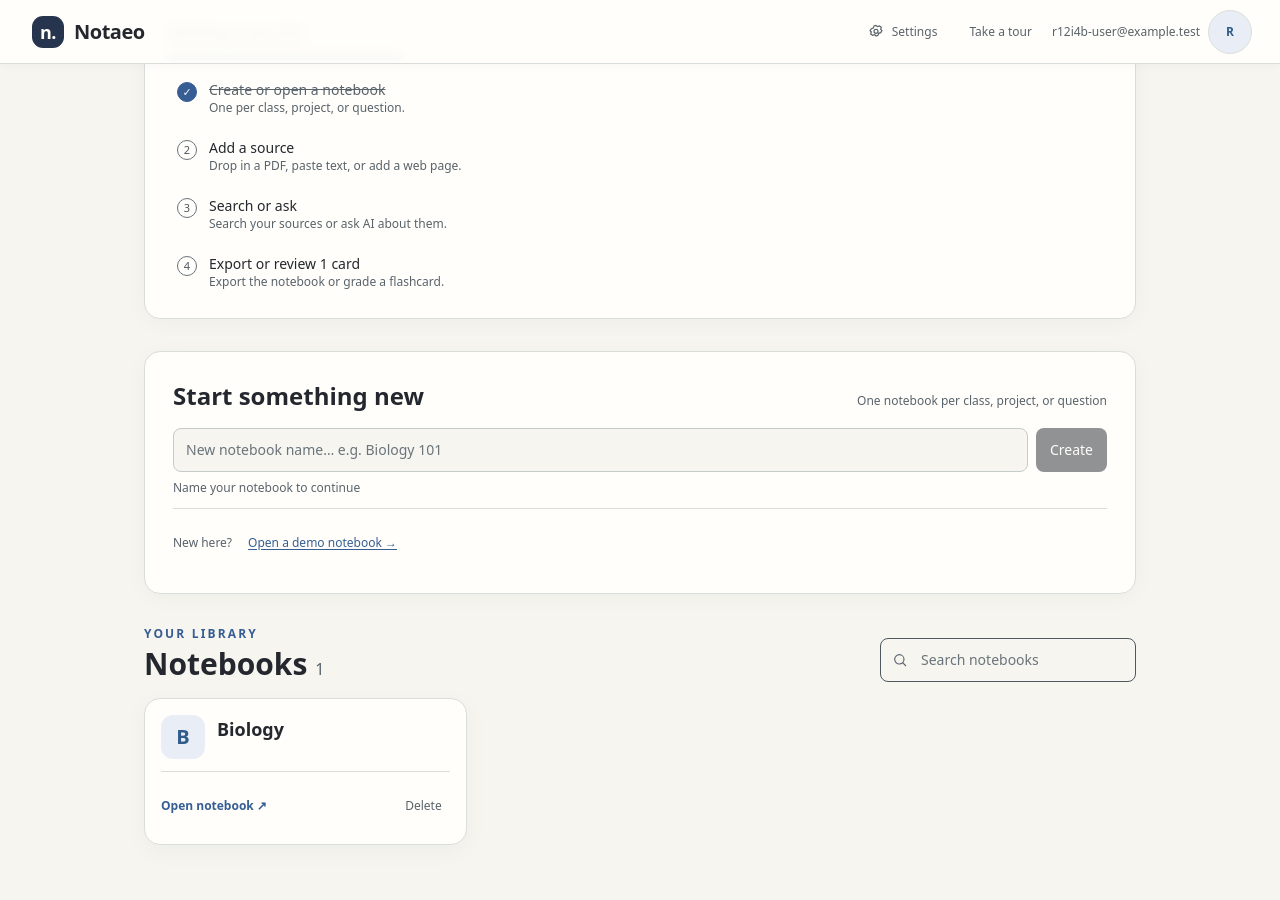
Test: does not announce when opening a notebook that already has sources
(page scrolled)
Click the button with aria-label "Open Biology" at coordinates (183, 737), box top-left (161, 715), bottom-right (450, 759)
(page scrolled)
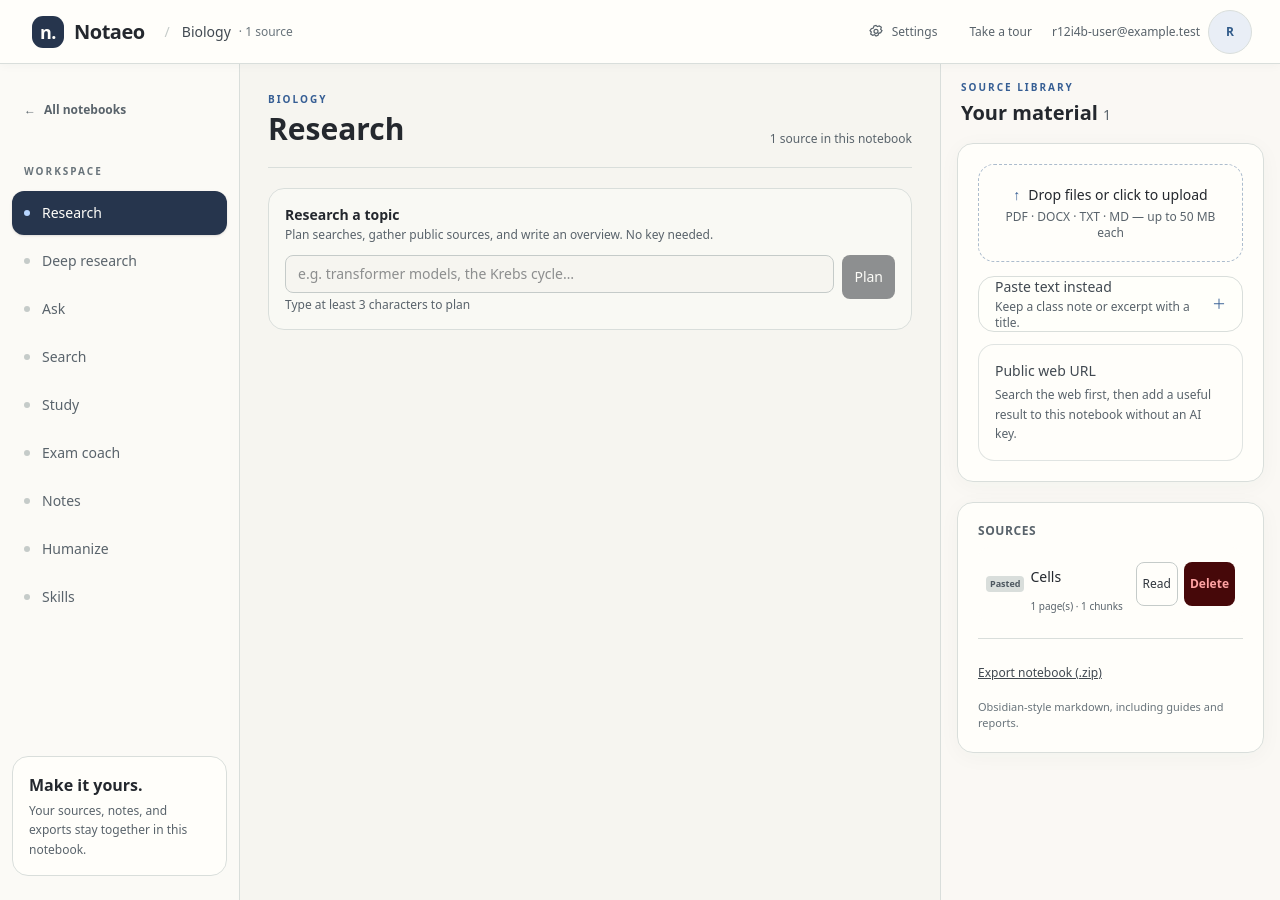
Check: the button "Cells" is shown, box top-left (1030, 554), bottom-right (1130, 598)
